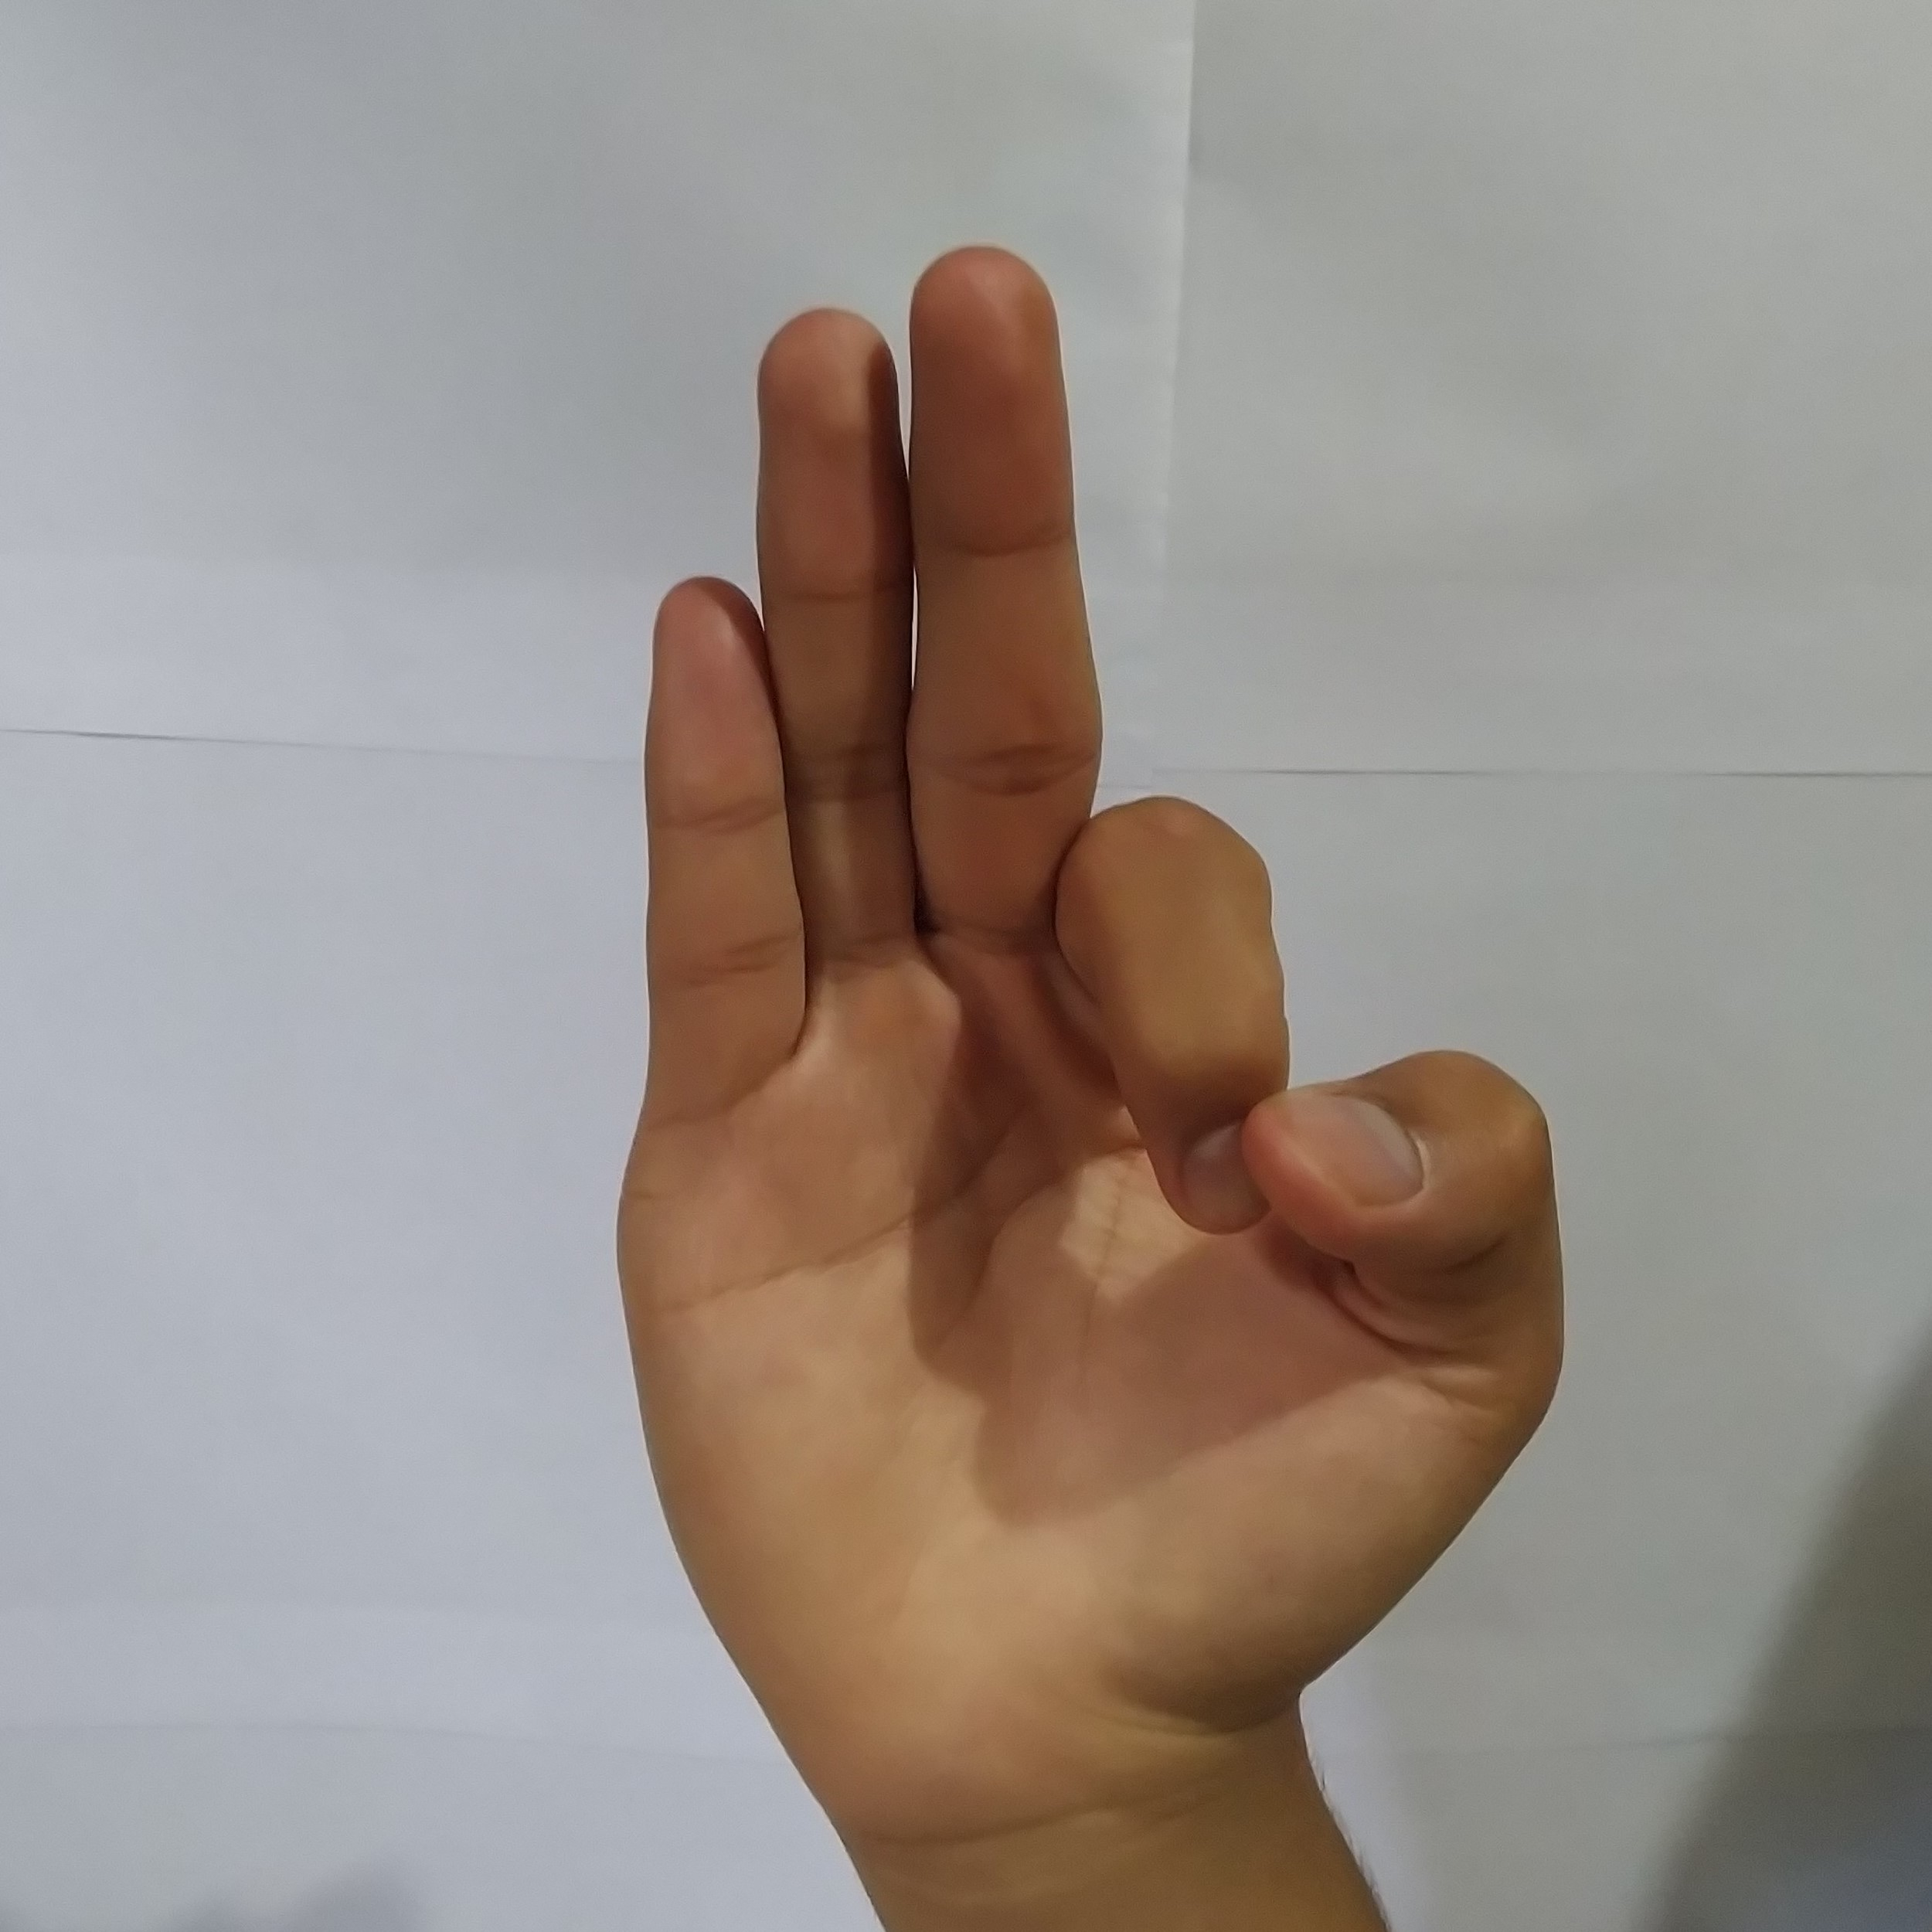F: (589, 219, 1594, 1734)
